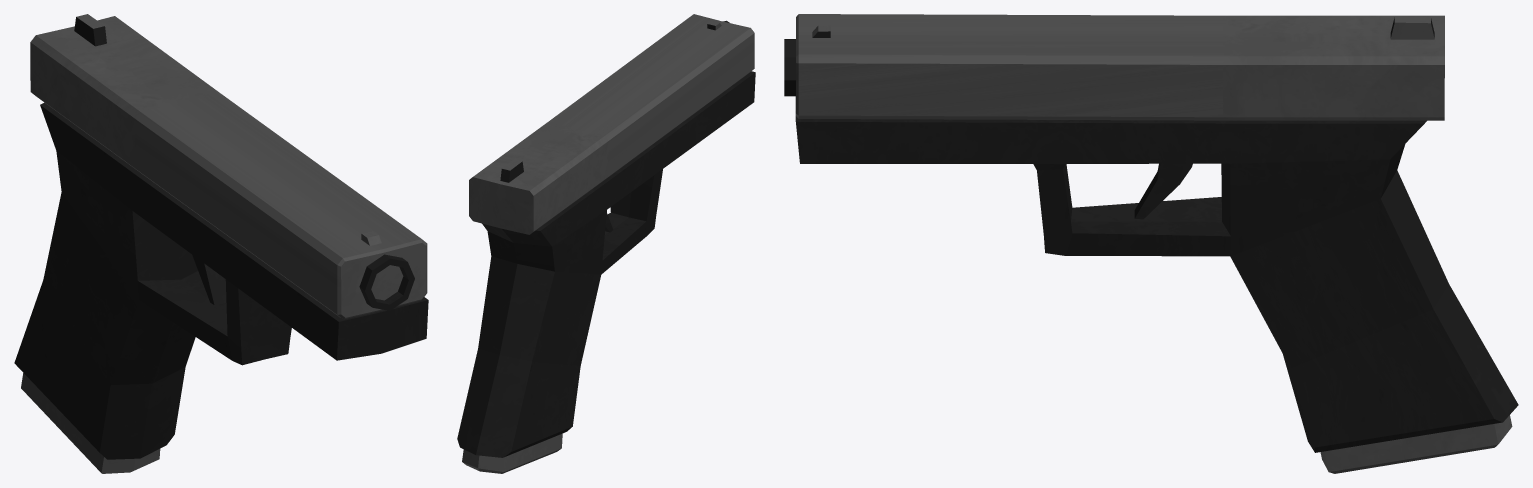
The model's file is gun.fbx.
The picture shows the model from 3 angles, left to right: view 1: azimuth 30°, elevation 25°; view 2: azimuth 150°, elevation 25°; view 3: azimuth 270°, elevation 25°; orthographic projection. The views are drawn at different scales.
Visible parts, largest first — view 1: Gun; view 2: Gun; view 3: Gun.
Part boxes in pixels (<box>): Gun: <box>14,14,428,473</box>; Gun: <box>457,14,755,473</box>; Gun: <box>784,14,1518,473</box>.
Bounding box in the file's own units: 58.44 × 263 × 393.
